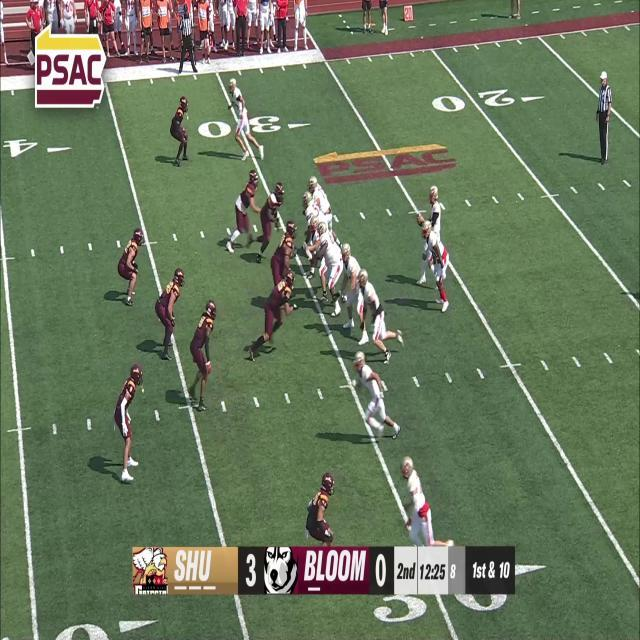football: (416, 212, 424, 226)
